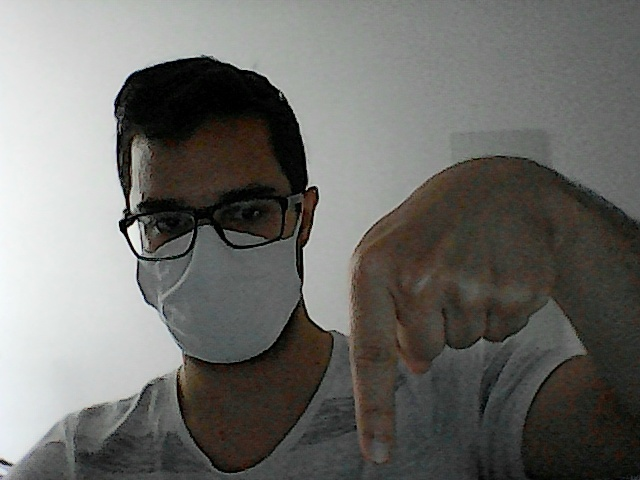down: (342, 140, 566, 476)
